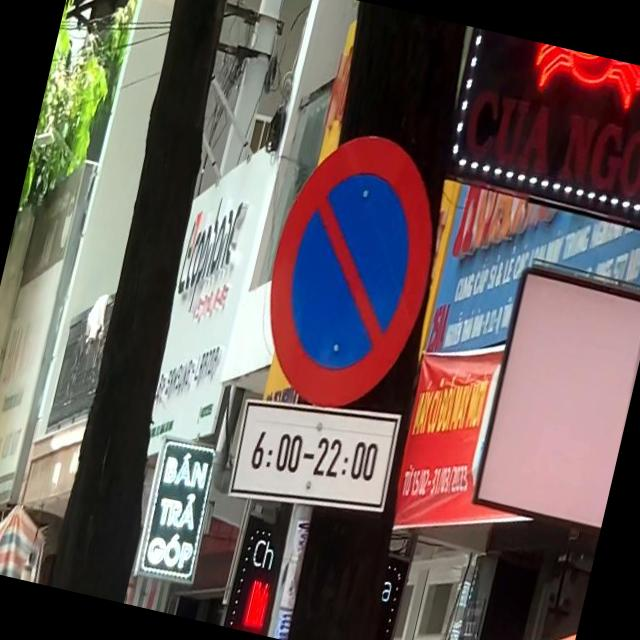P-131a: (246, 120, 454, 420)
